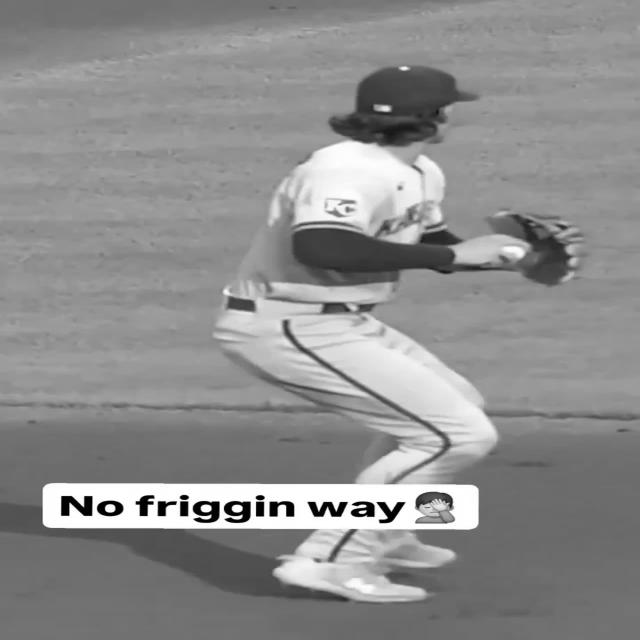baseball_glove: (489, 211, 587, 285)
shoe: (273, 555, 427, 602), (329, 530, 456, 569)
